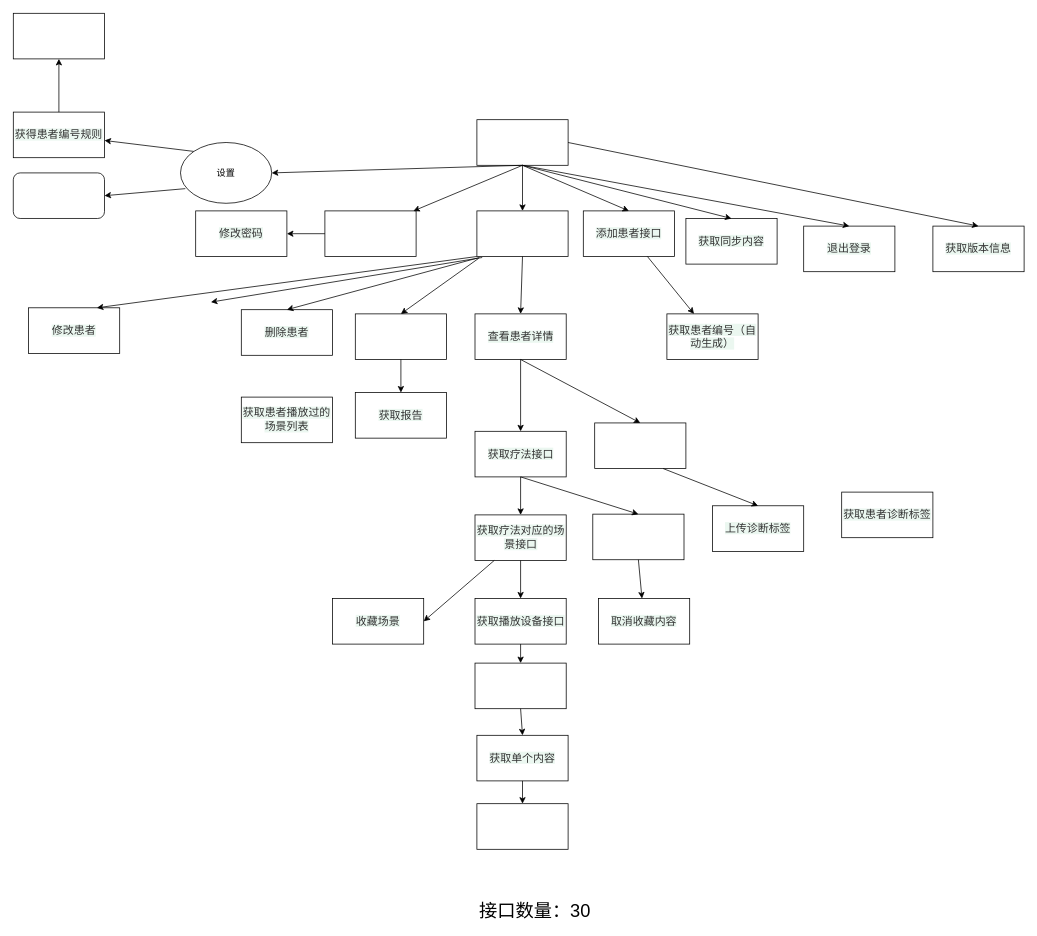
Image size: 1037x936. Some labels were removed from this diagram. Each missing label, with the centre of its shape:
修改治疗师信息: point 370,233
关闭播放器: point 522,826
发送播放指令: point 520,685
改变添加患者编号规则: point 58,36
登录: point 522,142
获取患者训练记录: point 400,336
获取我的患者接口: point 522,233
获取收藏对应的场景列表接口: point 638,536
获取诊断标签: point 640,445
设置ip: point 58,195
